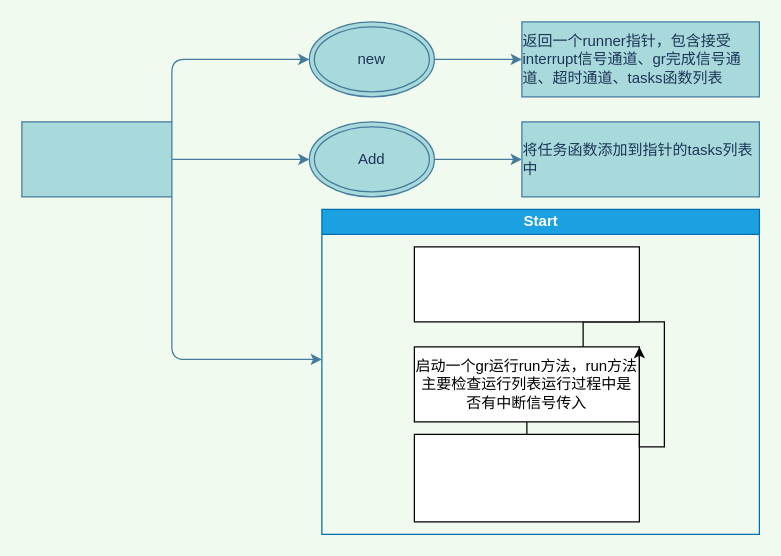
The diagram is 781 pixels wide and 556 high, and some of its shapes have lost their labels. Each missing label, with the centre of its shape:
"runner" goes at point (96, 159).
"接受完成信号通道和超时通道信号，一旦捕获到就终止select" goes at point (526, 477).
"绑定一个os中断信号" goes at point (526, 284).
